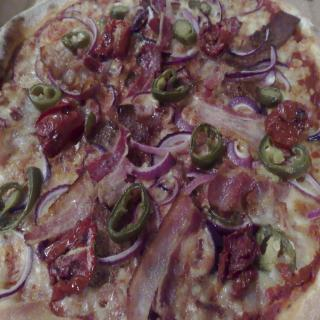Pizza: (0, 0, 320, 317)
